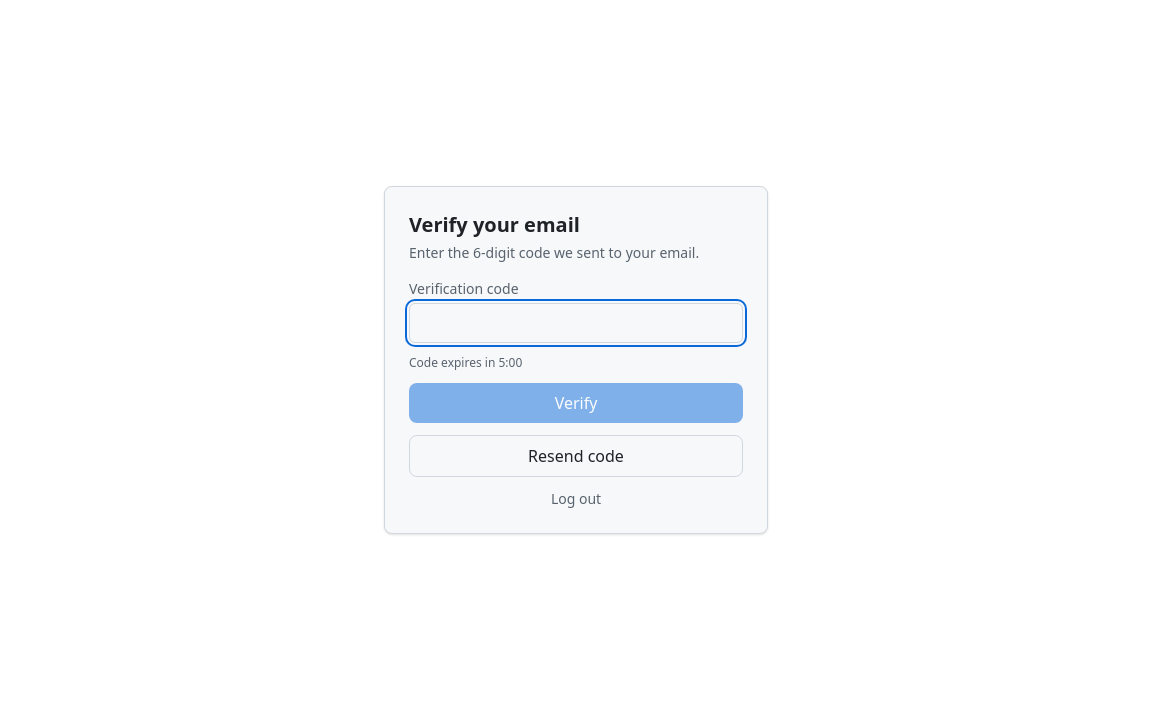
Test case: input mã 6 số: inputmode numeric + maxLength 6, chỉ nhận số
Type "ab12-3456" into the field with test id "input-code" at (576, 323), box [409,303,743,343]
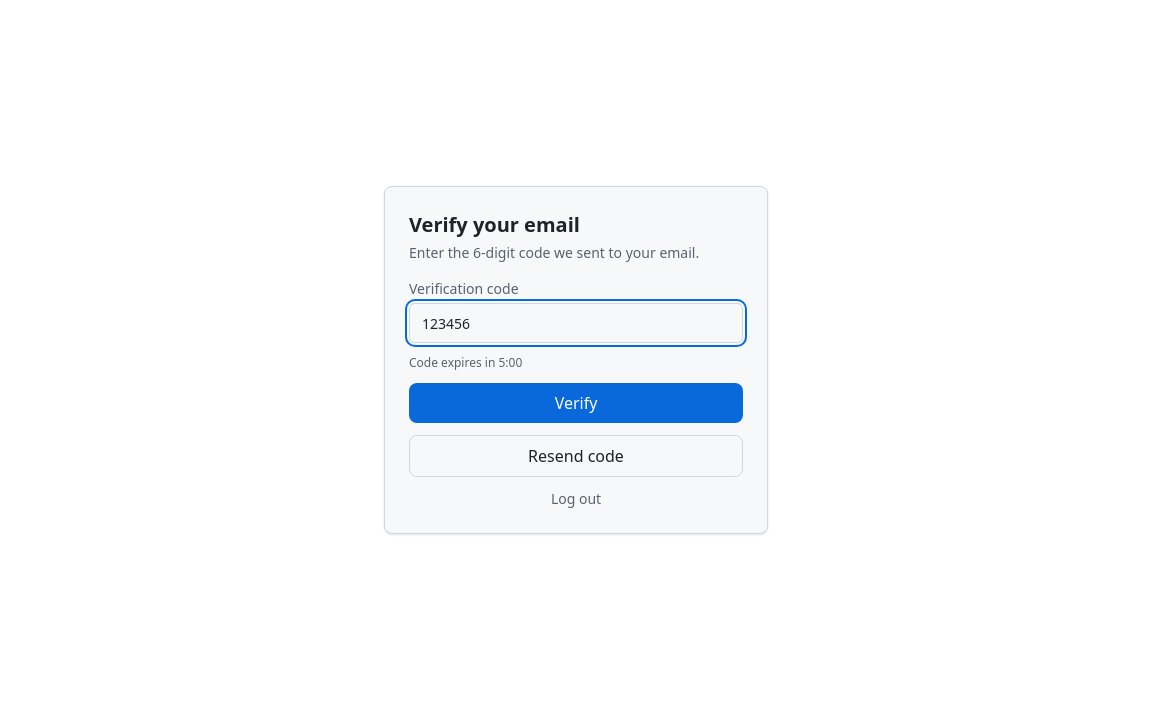
expect the field with test id "input-code" holds "123456": met, box [409,303,743,343]
